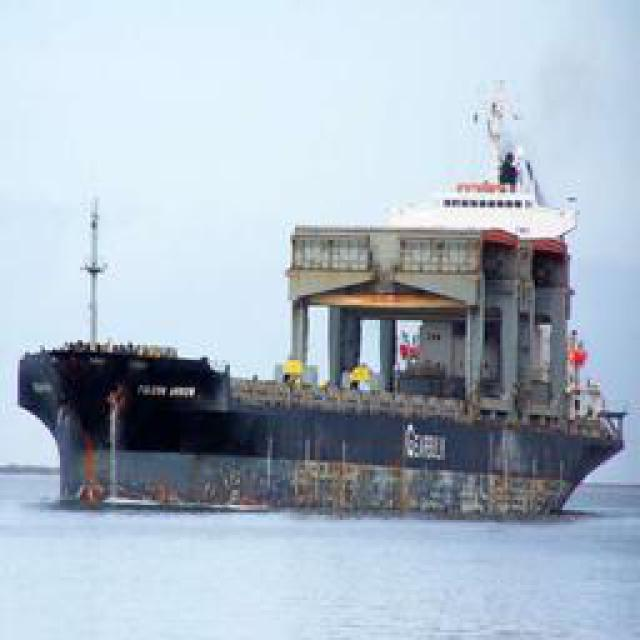Ship: (11, 72, 640, 537)
